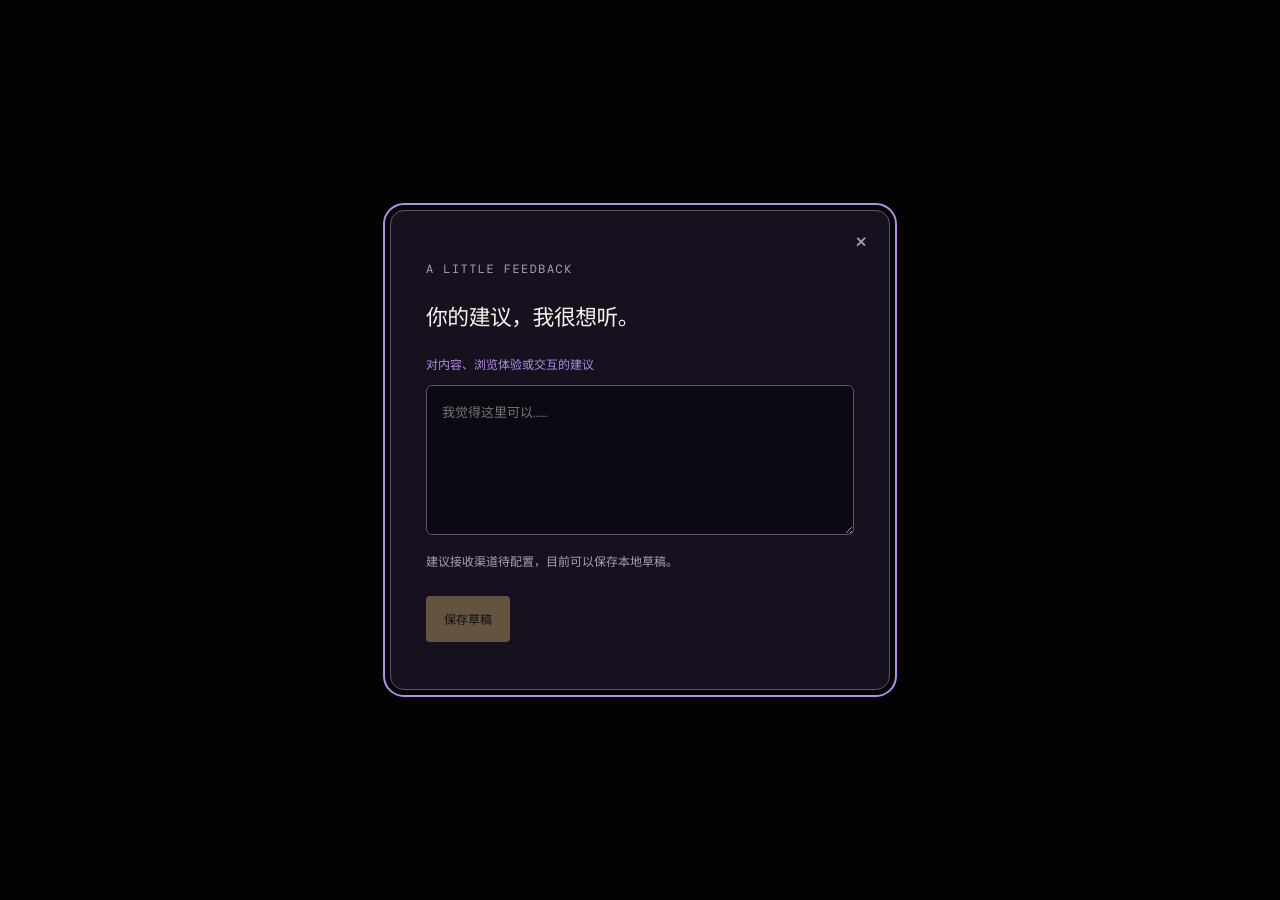
PortfolioDialog › feedback variant › reports a fallback message when localStorage.setItem throws
Type "建议内容" into the text box at (640, 460), box [426,385,854,535]
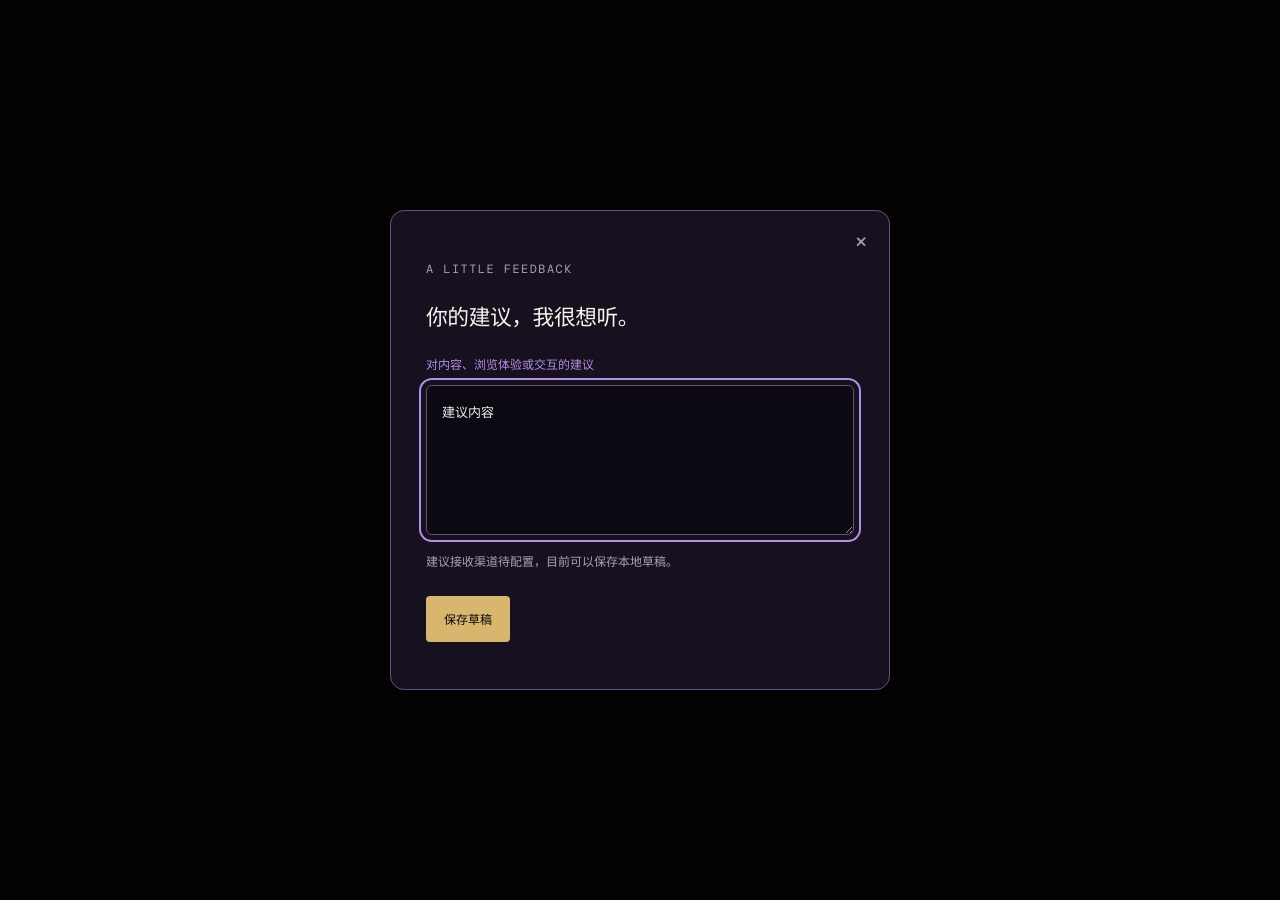
Click the button "保存草稿" at (468, 619), box [426,596,510,642]
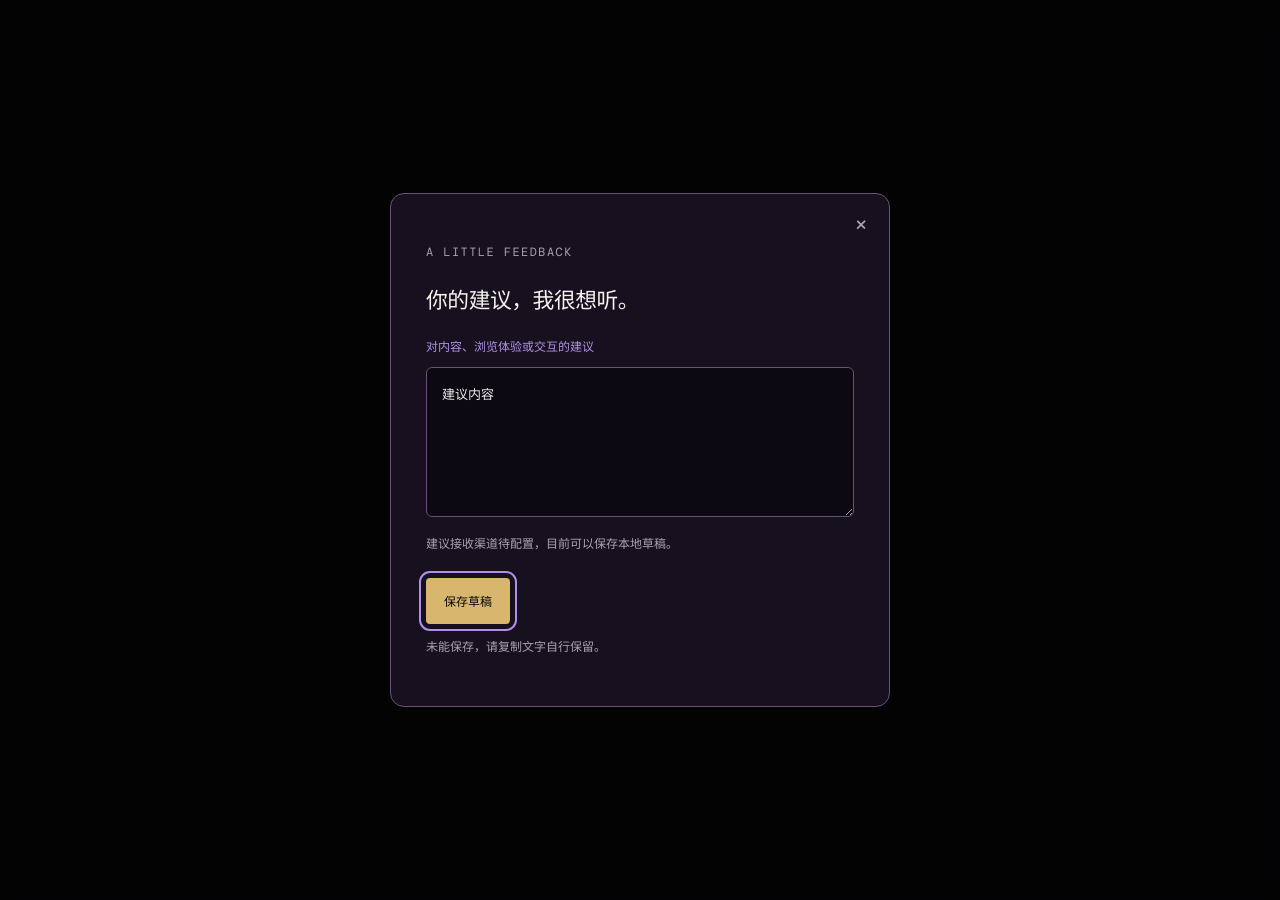
expect the message reads "未能保存，请复制文字自行保留。": met, box [426,639,606,655]
